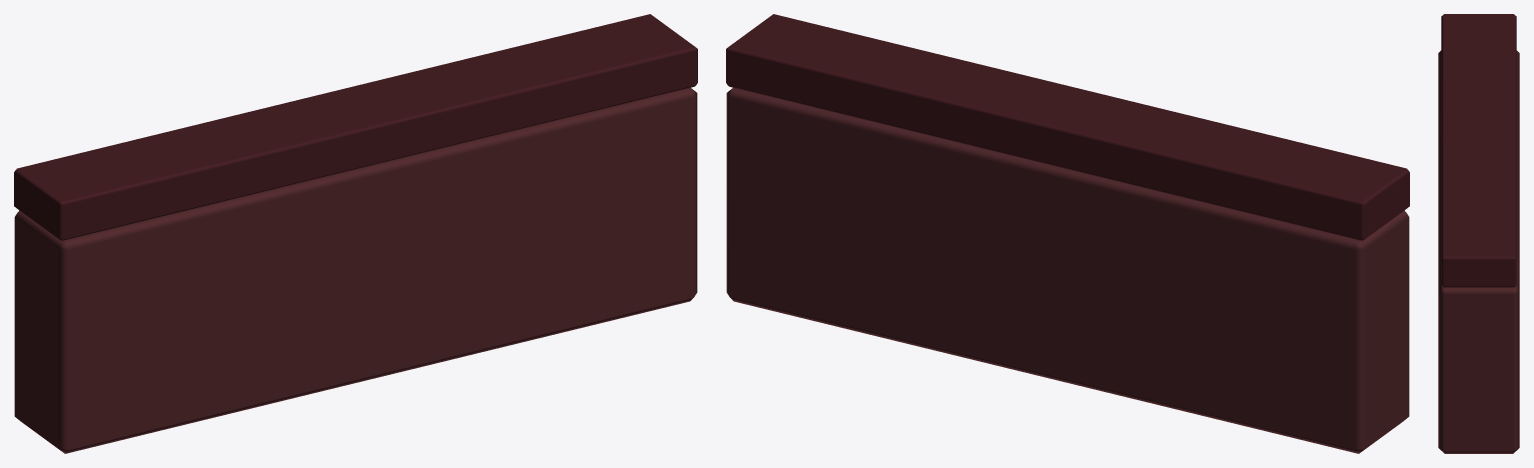
The model's file is living-cave-plinth.44cdf8e7.glb.
3 renders of one model, left to right at view 1: azimuth 30°, elevation 25°; view 2: azimuth 150°, elevation 25°; view 3: azimuth 270°, elevation 25°, orthographic. The views are drawn at different scales.
Parts seen in each view (by area): view 1: body; view 2: body; view 3: body.
Boxes of the visible parts, box(x1,y1,x2,y2) form: body: box(14, 14, 697, 453); body: box(726, 14, 1409, 453); body: box(1438, 14, 1519, 453).
Size of the model in its own units: 1 by 0.38 by 0.14.
